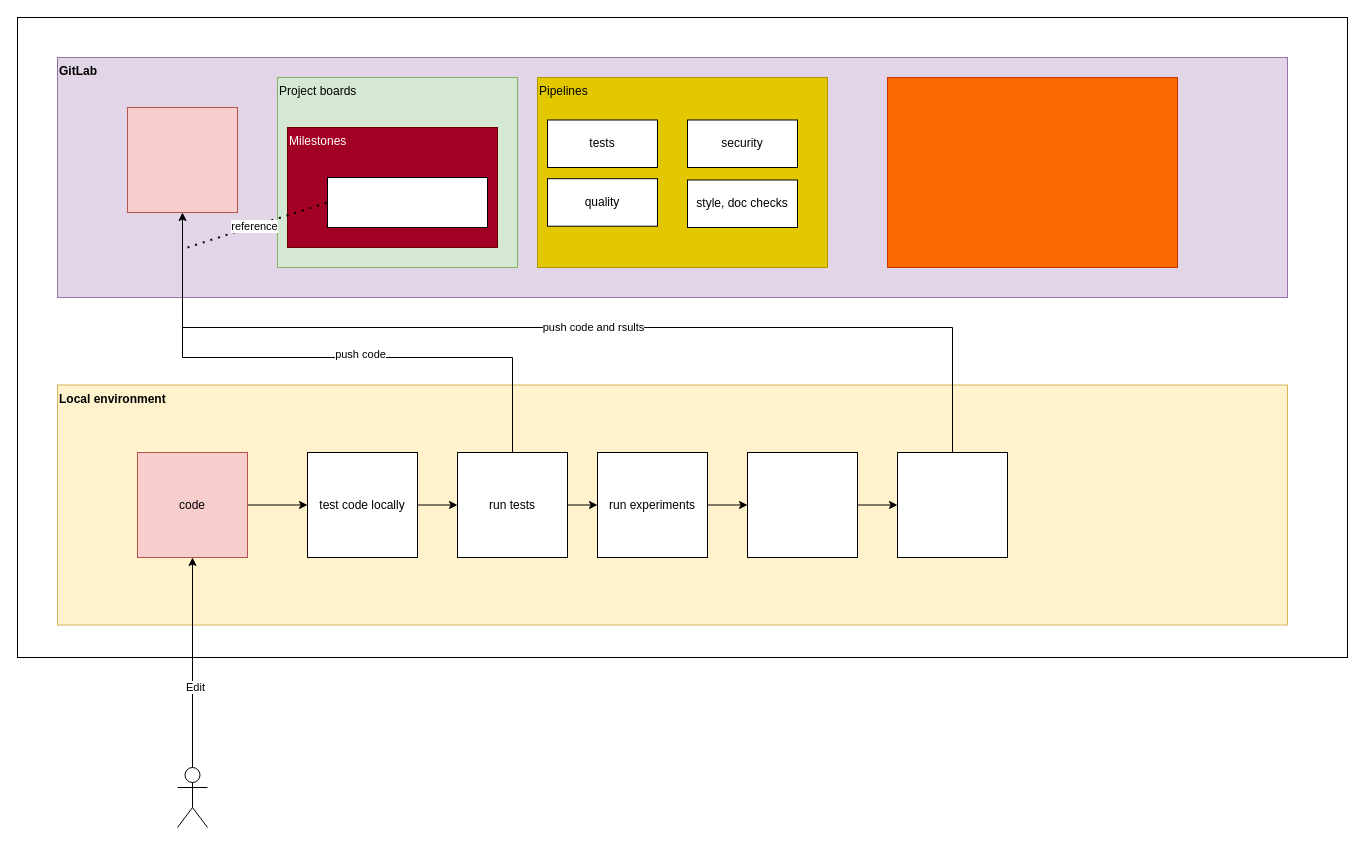
Image size: 1365x866. Some labels were removed from this diagram. Here are the shapes that lost their labels. From the top down, the centre of each, then its label:
At (x=182, y=159): "git repo".
At (x=1032, y=172): "Store ML models and experiments".
At (x=407, y=202): "issues".
At (x=802, y=505): "feed data to local wandb".
At (x=952, y=505): "Evaluate results".
At (x=192, y=797): "Actor".
